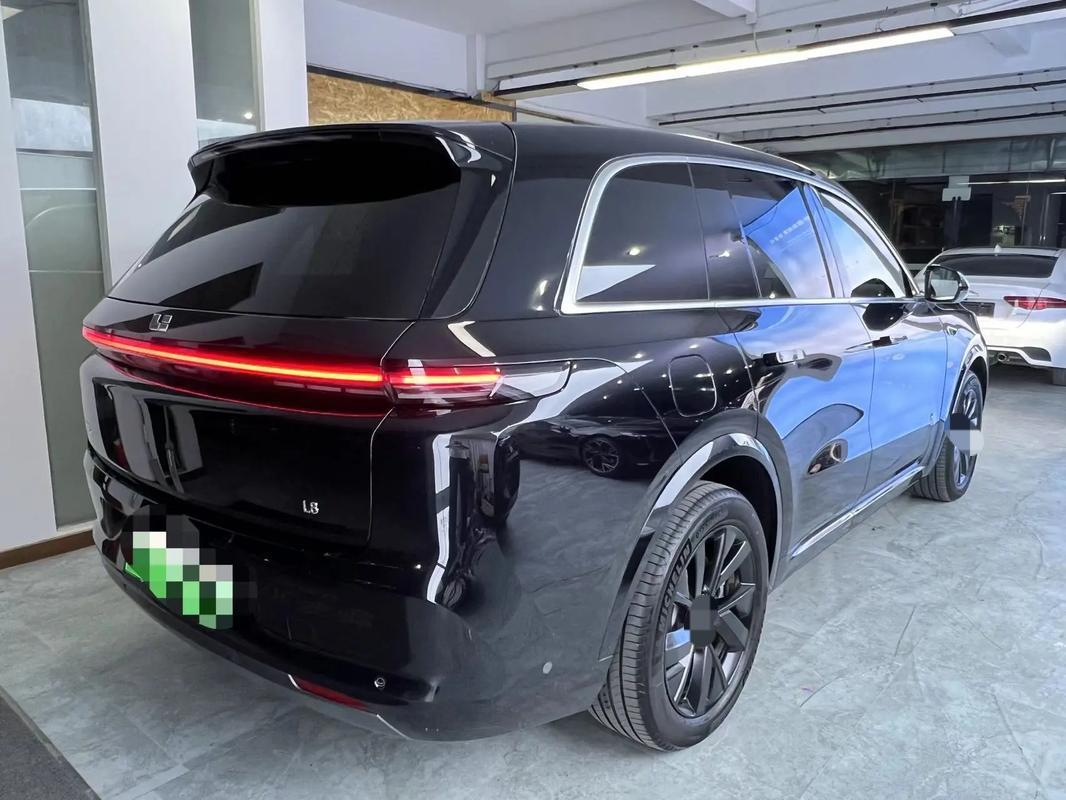Li Auto: (148, 313, 172, 332)
